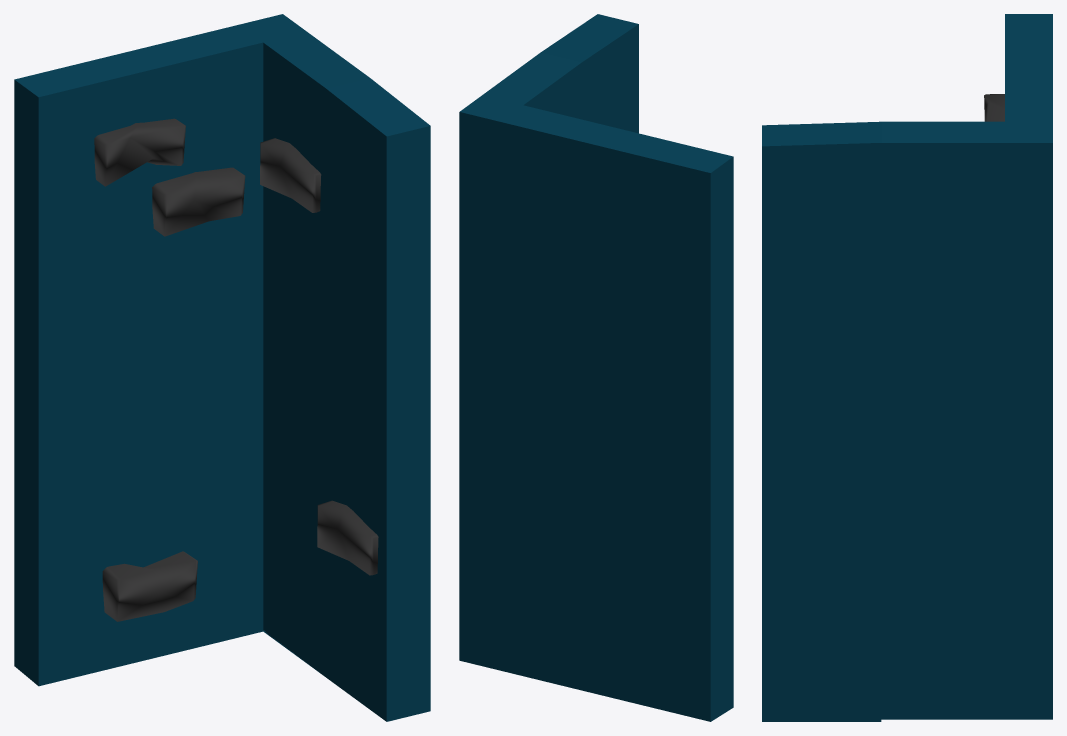
Rendered from wall 3.fbx.
3 views of the same model, side by side, from view 1: azimuth 30°, elevation 25°; view 2: azimuth 150°, elevation 25°; view 3: azimuth 270°, elevation 25° (orthographic). The views are drawn at different scales.
Parts seen in each view (by area): view 1: 立方体.029; view 2: 立方体.029; view 3: 立方体.029.
Boxes of the visible parts, left/top/right/bottom form: 立方体.029: left=14, top=14, right=430, bottom=721; 立方体.029: left=459, top=14, right=733, bottom=721; 立方体.029: left=762, top=14, right=1052, bottom=721.
Bounding box in the file's own units: 273 × 573 × 261.
Materials: 2 (1 with a texture image).
